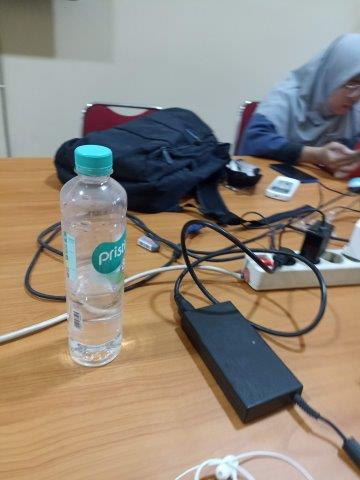botolplastik: (59, 144, 127, 368)
